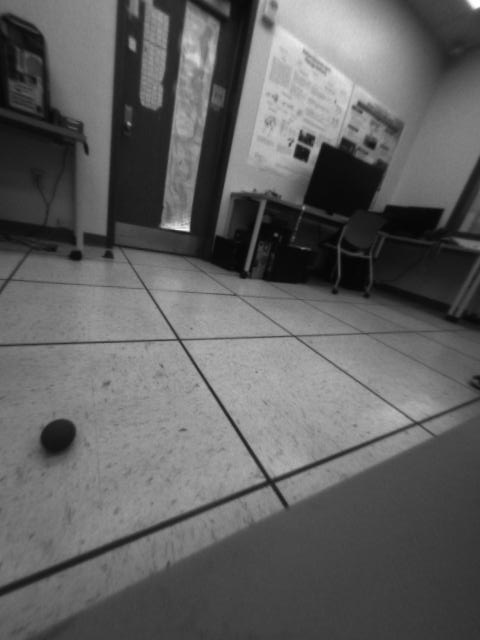dogtoy: (30, 409, 84, 459)
